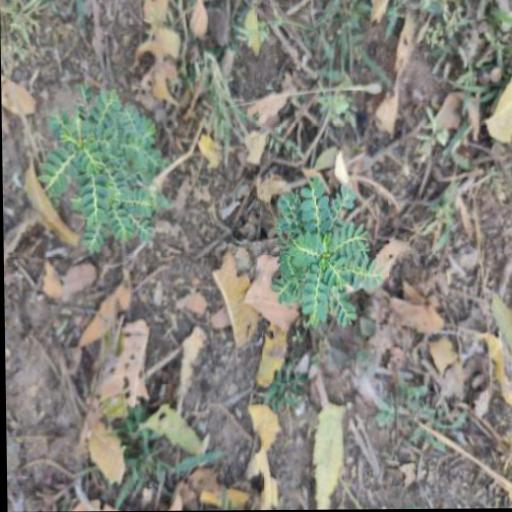weed: (36, 79, 164, 262), (269, 171, 377, 330)
